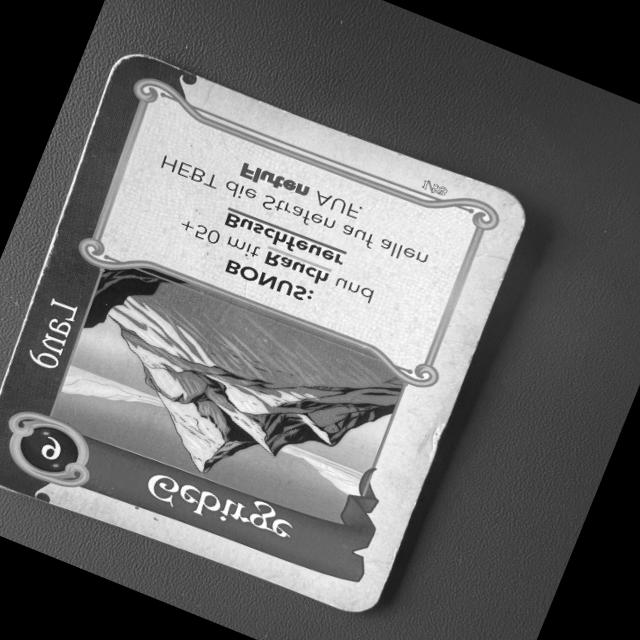Mountain: (0, 45, 538, 621)
